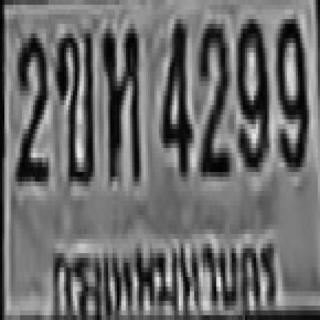A02: (55, 29, 96, 186)
A41: (101, 22, 142, 187)
N02: (15, 29, 50, 185), (198, 19, 232, 178)
N04: (161, 14, 193, 175)
N09: (274, 14, 309, 174), (236, 14, 270, 174)
P04: (41, 228, 287, 320)
